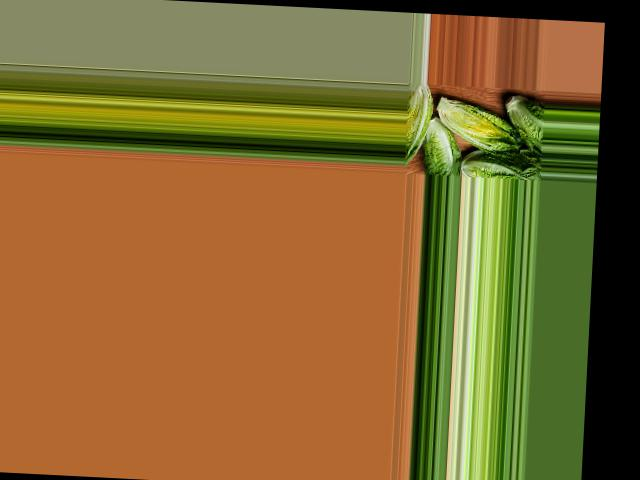lettuce: (403, 84, 436, 164)
